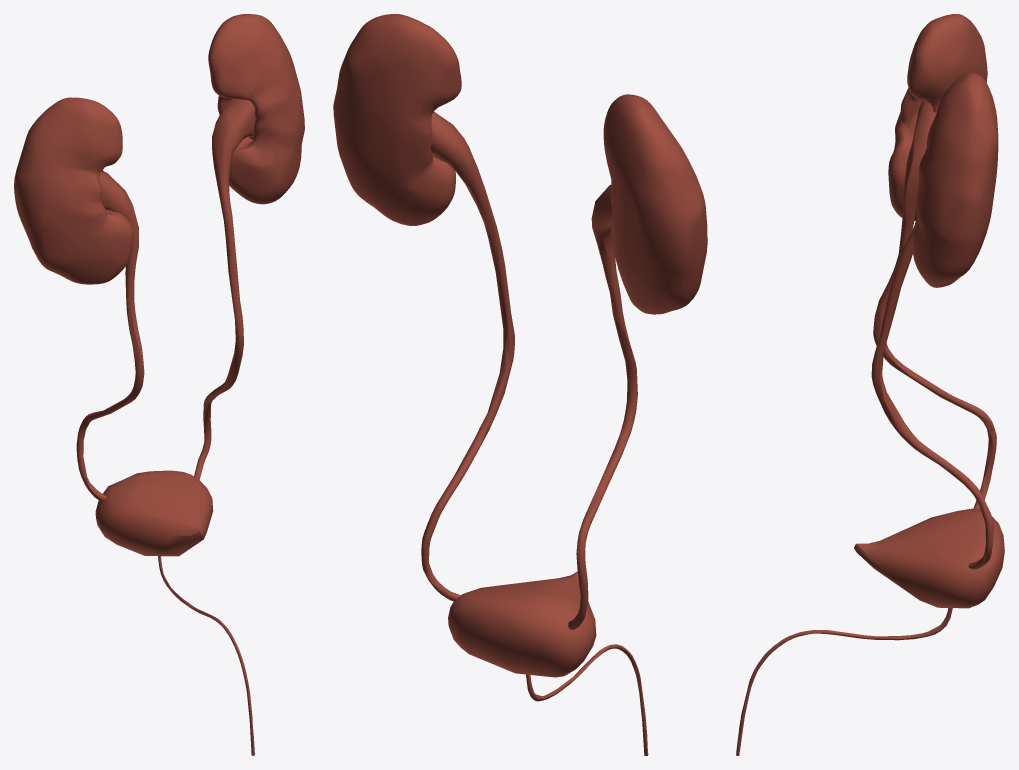
File: urinario.glb
3 views of the same model, side by side, from view 1: azimuth 30°, elevation 25°; view 2: azimuth 150°, elevation 25°; view 3: azimuth 270°, elevation 25° (orthographic). The views are drawn at different scales.
Visible parts, largest first — view 1: FMA7204, FMA7205, FMA15900, FMA15572, FMA15571, FMA19667; view 2: FMA7205, FMA7204, FMA15900, FMA15572, FMA15571, FMA19667; view 3: FMA7205, FMA15900, FMA7204, FMA15571, FMA15572, FMA19667.
Part boxes in pixels (<box>): FMA7204: <box>14,97,133,284</box>; FMA7205: <box>208,14,304,204</box>; FMA15900: <box>95,470,213,556</box>; FMA15572: <box>194,99,255,479</box>; FMA15571: <box>76,171,144,501</box>; FMA19667: <box>158,556,254,755</box>; FMA7205: <box>333,14,461,225</box>; FMA7204: <box>603,94,707,314</box>; FMA15900: <box>448,571,596,677</box>; FMA15572: <box>421,111,514,601</box>; FMA15571: <box>568,185,637,629</box>; FMA19667: <box>526,644,648,755</box>; FMA7205: <box>913,72,998,287</box>; FMA15900: <box>854,508,1004,608</box>; FMA7204: <box>888,14,987,220</box>; FMA15571: <box>873,100,996,510</box>; FMA15572: <box>871,226,993,569</box>; FMA19667: <box>736,608,952,755</box>.
Size of the model in its own units: 0.178 by 0.3819 by 0.1276.
